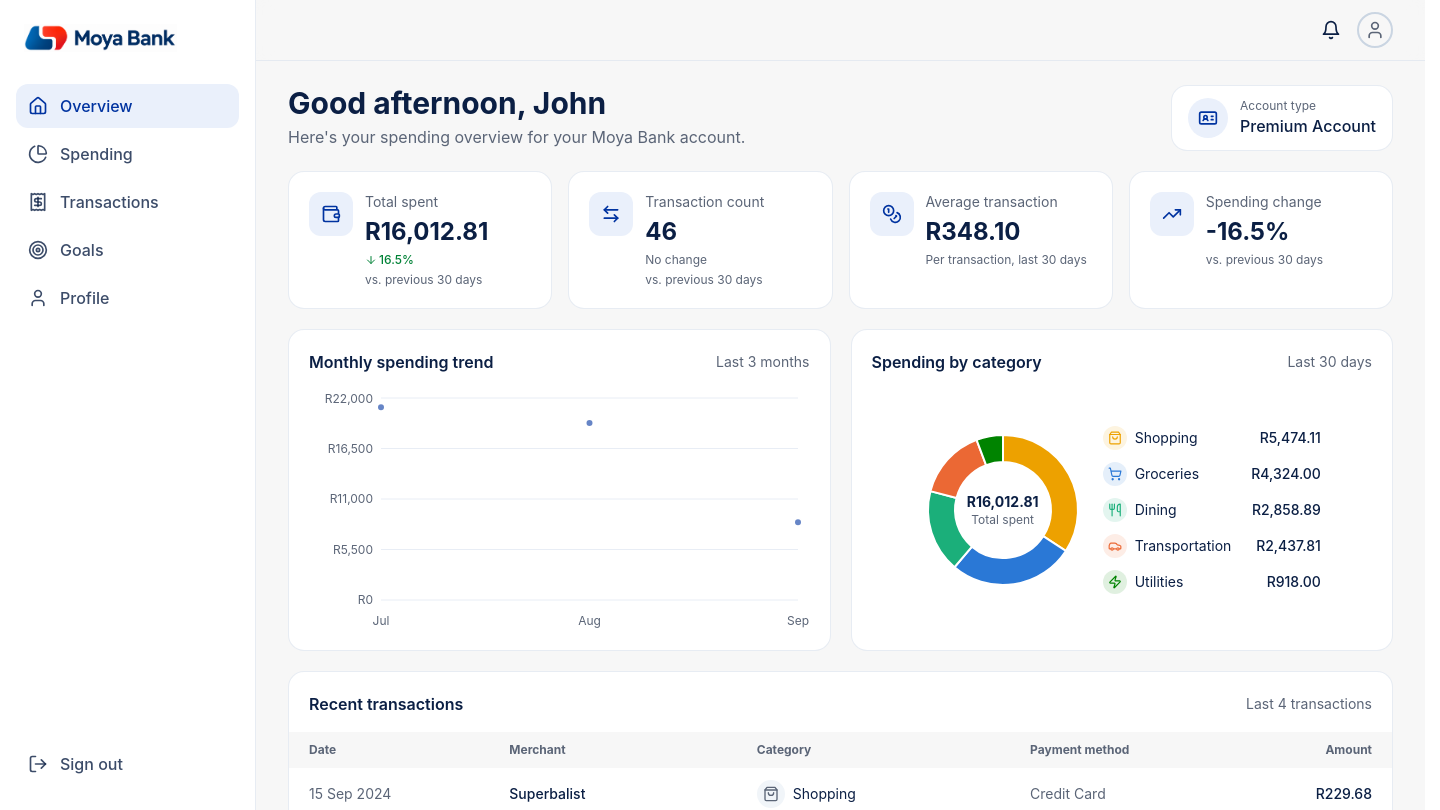
Dashboard layout › shows an empty notifications panel from the bell
The image size is (1440, 810).
Click the button named "Notifications": (1331, 30) [1313, 12, 1349, 48]
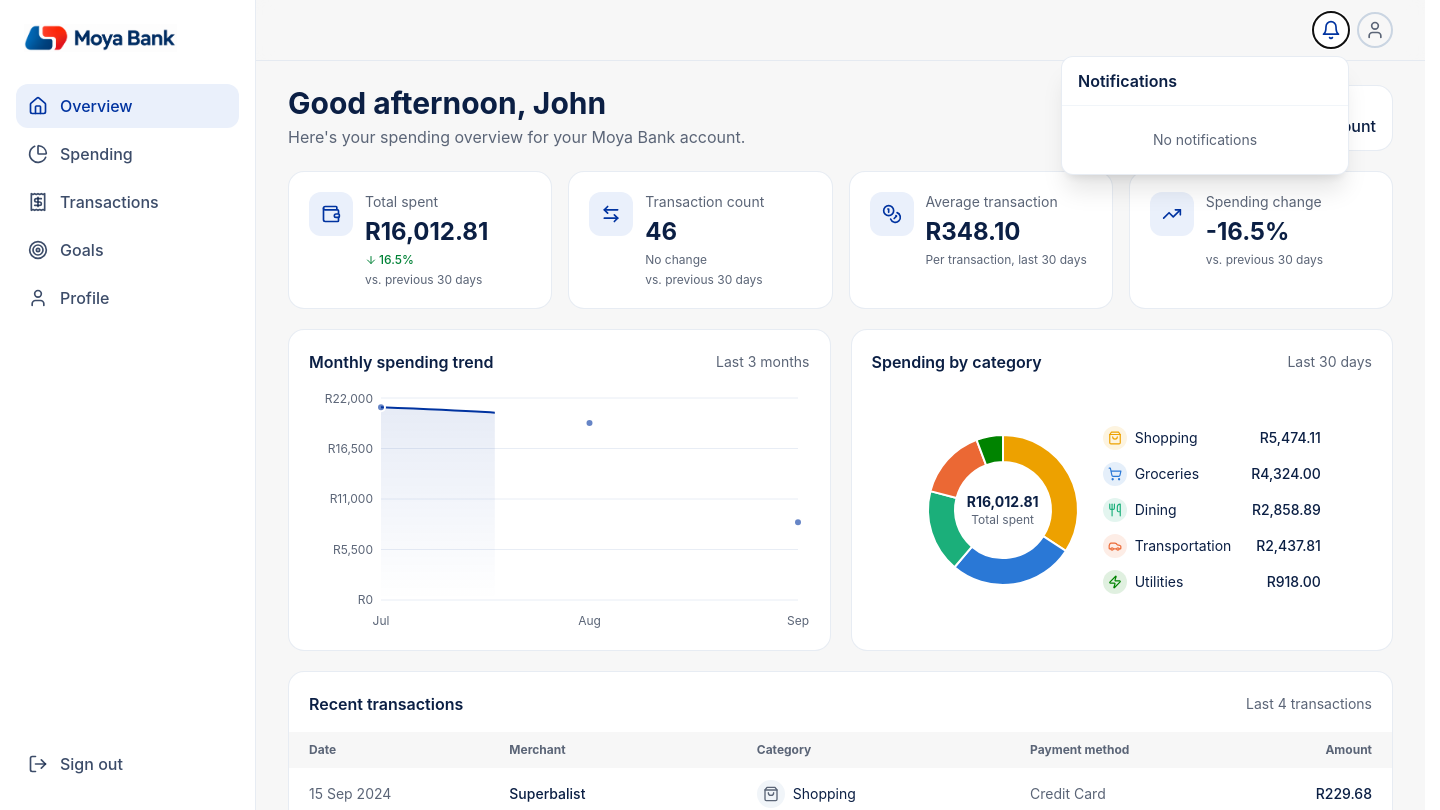
Expected: the button named "Notifications" is expanded, [1313, 12, 1349, 48]
Expected: the text "No notifications" is shown, [1153, 131, 1257, 148]
Press Escape
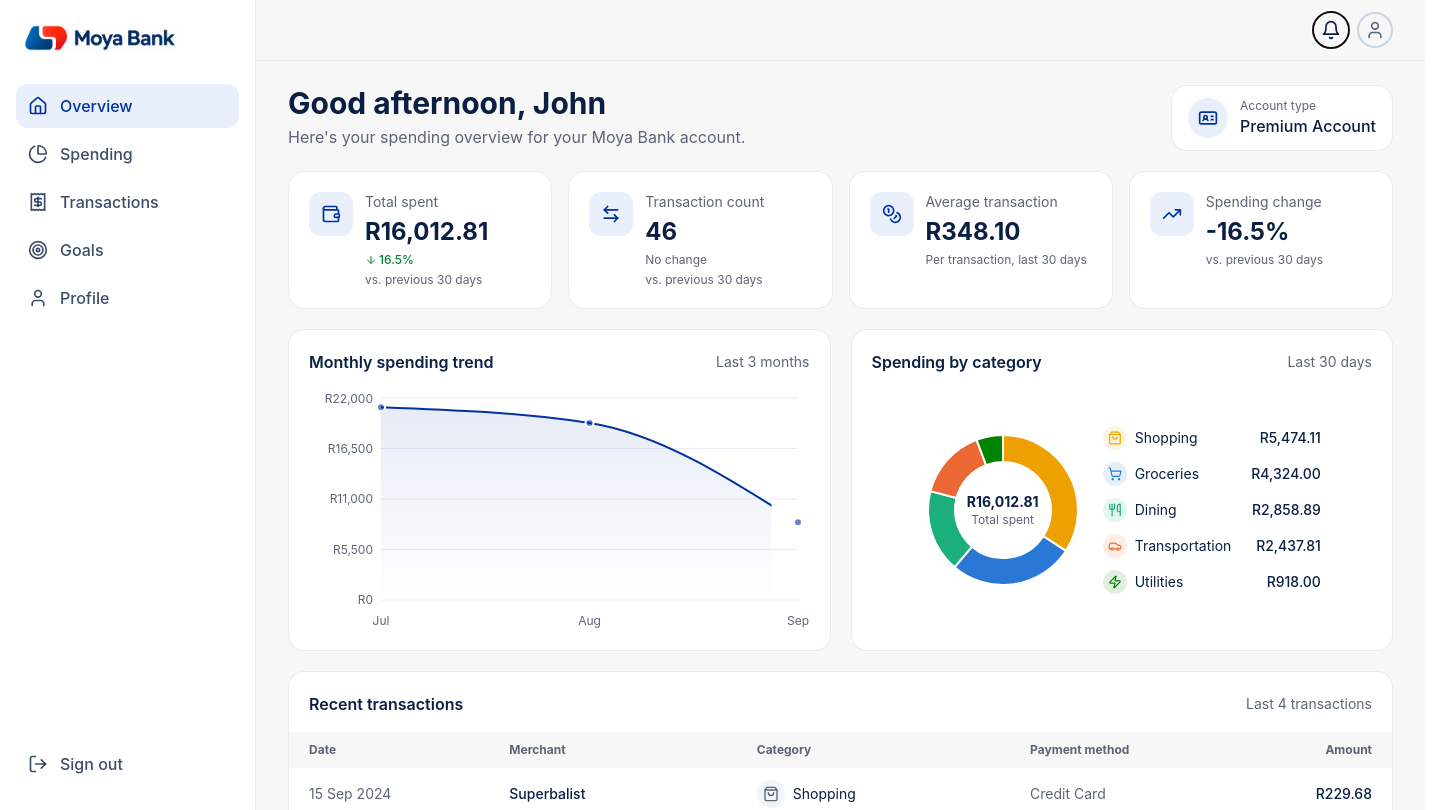
Expected: the button named "Notifications" is collapsed, [1313, 12, 1349, 48]
